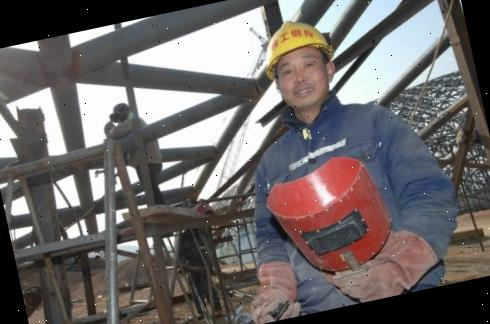helmet: (256, 12, 334, 72)
